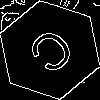C: (25, 25, 85, 84)
